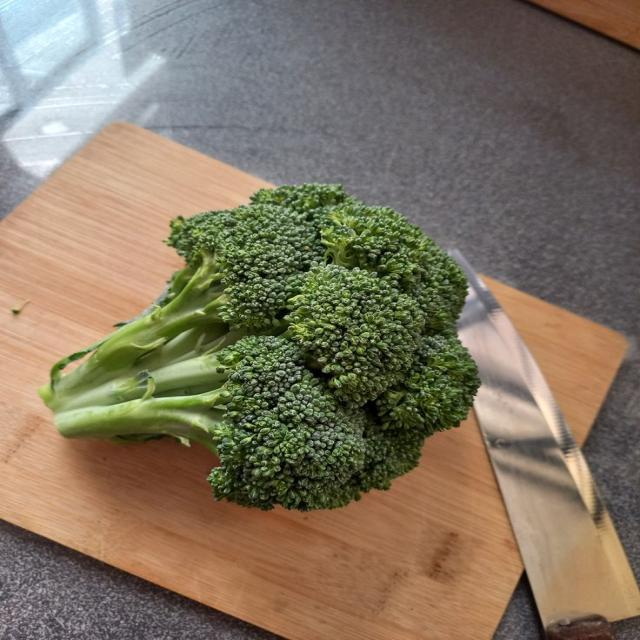broccoli: (40, 184, 479, 510), (57, 336, 365, 510)
